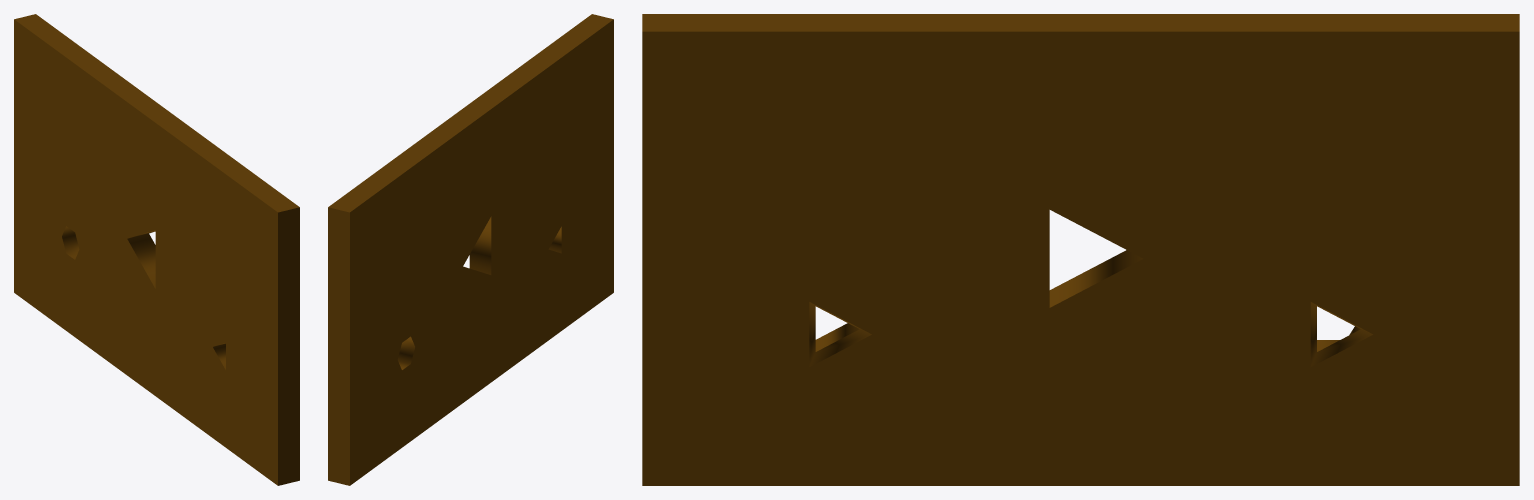
Rendered from Suspension - PlaqueH.obj.
3 renders of one model, left to right at view 1: azimuth 30°, elevation 25°; view 2: azimuth 150°, elevation 25°; view 3: azimuth 270°, elevation 25°, orthographic. The views are drawn at different scales.
Visible parts, largest first — view 1: Face_2, Face_5, Face_4, Face_7, Face_9; view 2: Face_2, Face_3, Face_4, Face_7, Face_9; view 3: Face_1, Face_4, Face_7, Face_10, Face_11.
Part boxes in pixels (bbox=[...]): Face_2: bbox=[14, 19, 277, 485]; Face_5: bbox=[278, 207, 299, 485]; Face_4: bbox=[14, 14, 299, 212]; Face_7: bbox=[127, 230, 155, 288]; Face_9: bbox=[62, 226, 79, 259]; Face_2: bbox=[350, 19, 613, 485]; Face_3: bbox=[328, 207, 349, 485]; Face_4: bbox=[328, 14, 613, 212]; Face_7: bbox=[469, 216, 491, 274]; Face_9: bbox=[397, 336, 414, 369]; Face_1: bbox=[642, 31, 1519, 485]; Face_4: bbox=[642, 14, 1519, 31]; Face_7: bbox=[1049, 250, 1143, 307]; Face_10: bbox=[1310, 302, 1372, 366]; Face_11: bbox=[809, 302, 871, 366].
Bounding box in the file's own units: 0.0005 × 0.006 × 0.0105.
